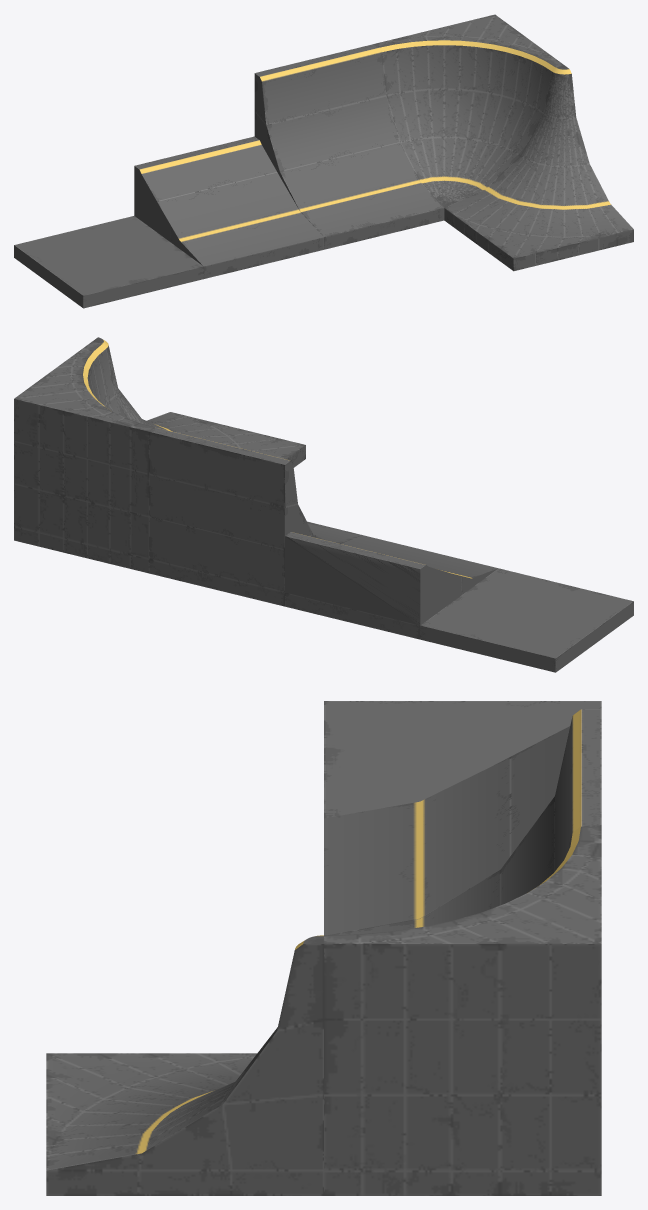
File: SkatePark.fbx
3 renders of one model, top to bottom at view 1: azimuth 30°, elevation 25°; view 2: azimuth 150°, elevation 25°; view 3: azimuth 270°, elevation 25°, orthographic. The views are drawn at different scales.
Parts seen in each view (by area): view 1: Half Pipe, Corner A, Corner B, Half Pipe.001, Flat; view 2: Corner A, Half Pipe, Half Pipe.001, Flat, Corner B; view 3: Corner A, Corner B, Half Pipe.001, Flat, Half Pipe.
Boxes of the visible parts, box(x1,y1,x2,y2) form: Half Pipe: box(254, 44, 444, 249); Corner A: box(375, 14, 563, 207); Corner B: box(444, 65, 633, 271); Half Pipe.001: box(134, 136, 323, 278); Flat: box(14, 216, 203, 308); Corner A: box(14, 341, 154, 573); Half Pipe: box(149, 427, 362, 606); Half Pipe.001: box(285, 532, 497, 639); Flat: box(420, 568, 633, 672); Corner B: box(92, 337, 305, 467); Corner A: box(324, 826, 601, 1195); Corner B: box(46, 935, 323, 1195); Half Pipe.001: box(324, 726, 570, 935); Flat: box(324, 701, 601, 818); Half Pipe: box(328, 709, 601, 935).
Bounding box in the file's own units: 4000 × 1000 × 2000.
